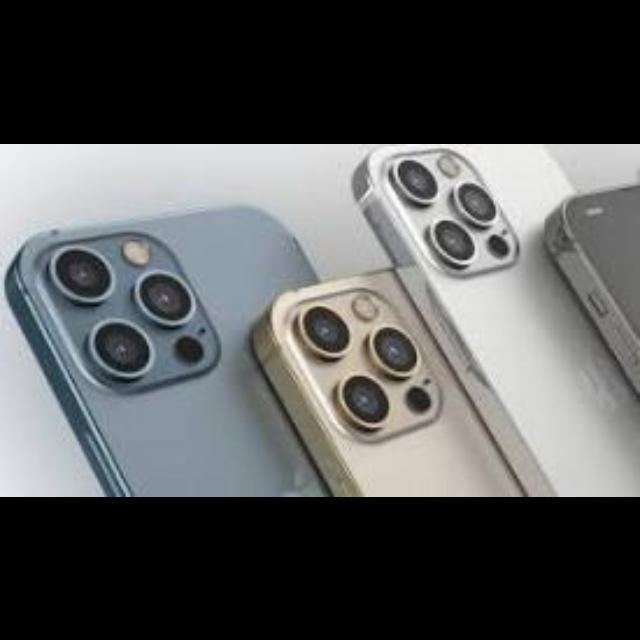PhoneUse: (5, 197, 335, 497), (348, 144, 578, 496), (256, 267, 458, 497)
